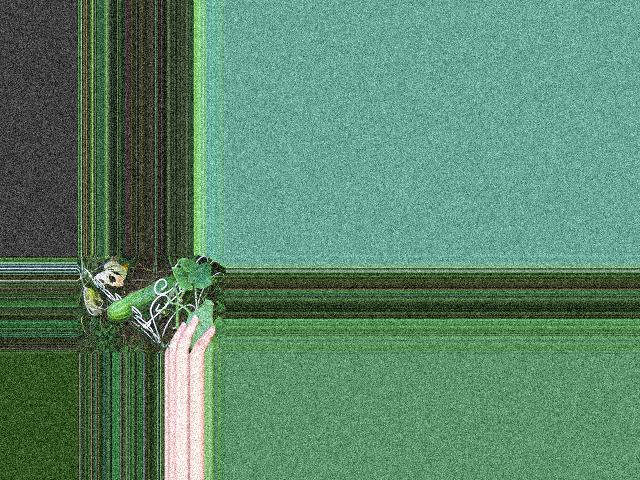cucumber: (107, 275, 176, 322)
